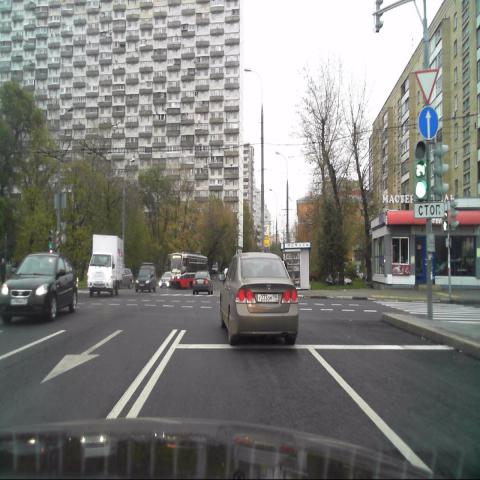6_16: (415, 203, 445, 218)
